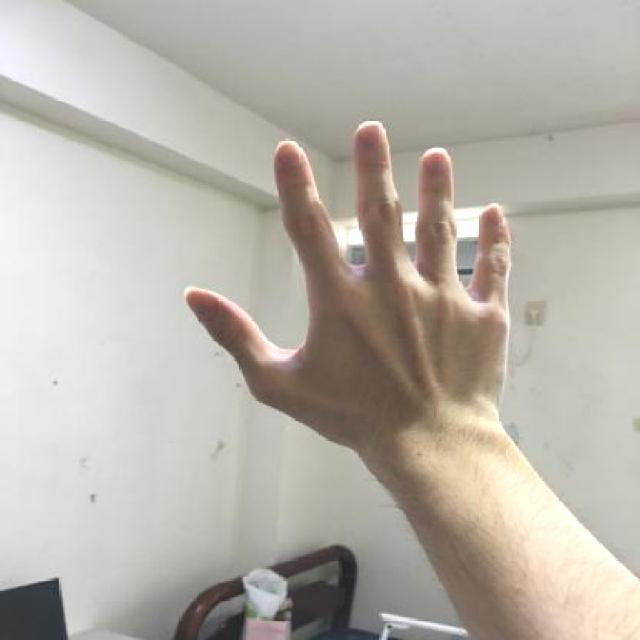no_glove: (170, 110, 525, 475)
